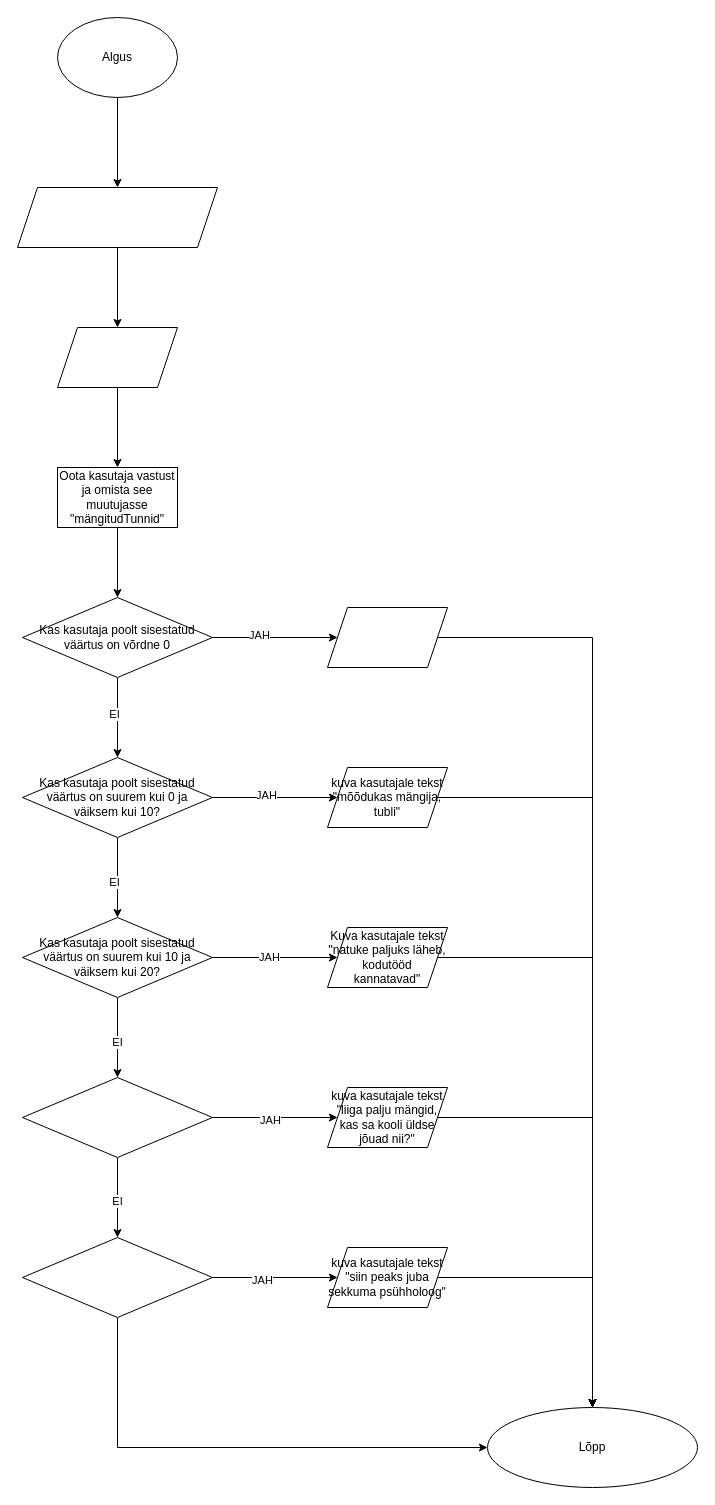
Some shapes in this 715 by 1505 pixel diagram are drawn without their labels. Each missing label, with the centre of its shape:
Kas kasutaja poolt sisestatud väärtus on suurem kui 20 ja väiksem kui 40?: [117,1117]
Kas kasutaja poolt sisestatud väärtus on suurem kui 40?: [117,1277]
kuva kasutajale tekst "kahju et sul aega mängida pole :c": [387,637]
Kuva kasutajale tekst "Palju olete viimase nädala jooksul mänginud?": [117,357]
tekita arv tüüpi muutuja "mängitudTunnid" mille algväärtuseks on 0.: [117,217]
